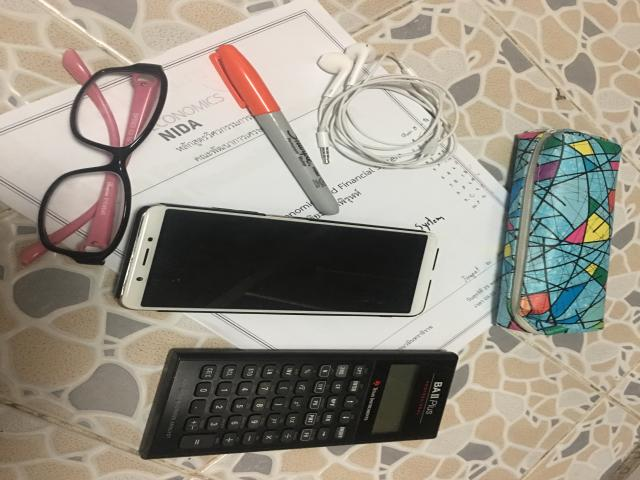Glasses: (20, 51, 168, 264)
Mobile phone: (117, 204, 437, 317)
Pen: (210, 44, 340, 215)
wire: (317, 43, 458, 169)
